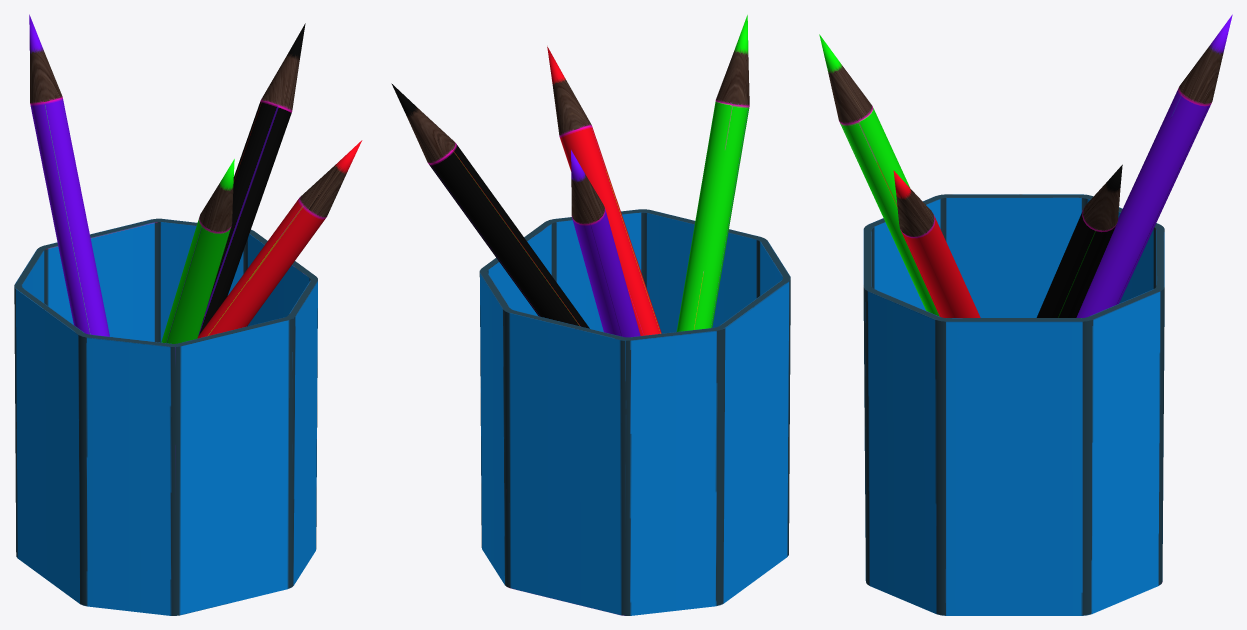
File: LAPICERO.glb
The picture shows the model from 3 angles, left to right: view 1: azimuth 30°, elevation 25°; view 2: azimuth 150°, elevation 25°; view 3: azimuth 270°, elevation 25°; orthographic projection. The views are drawn at different scales.
Visible parts, largest first — view 1: lapicero, color, color1, color3, color2; view 2: lapicero, color2, color1, color3, color; view 3: lapicero, color, color2, color1, color3.
Part boxes in pixels (x1,y1,x2,y2): lapicero: [14, 218, 317, 615]; color: [29, 14, 109, 336]; color1: [198, 23, 305, 335]; color3: [197, 140, 362, 338]; color2: [161, 159, 234, 343]; lapicero: [479, 209, 790, 615]; color2: [676, 15, 749, 331]; color1: [391, 83, 589, 328]; color3: [547, 46, 661, 335]; color: [571, 150, 640, 337]; lapicero: [863, 194, 1164, 615]; color: [1076, 14, 1232, 317]; color2: [819, 34, 939, 316]; color1: [1036, 164, 1122, 317]; color3: [893, 170, 980, 317].
Bounding box in the file's own units: 0.6396 × 0.9417 × 0.6796.
Materials: 1 (1 with a texture image).
